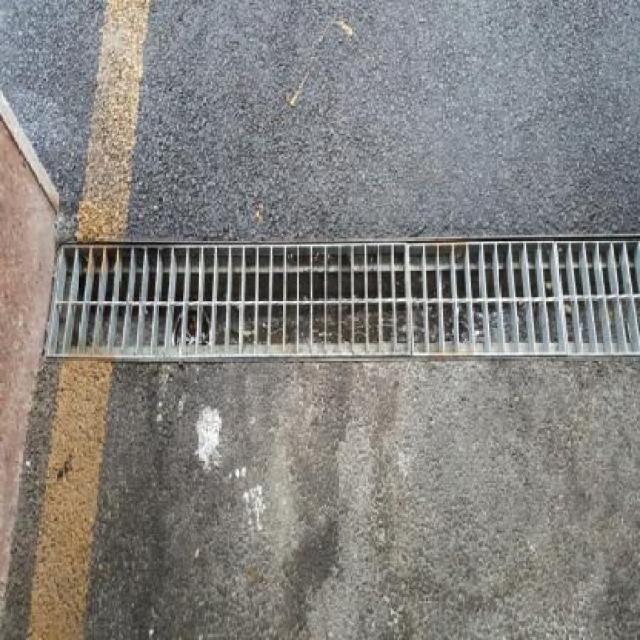Drain Hole: (55, 203, 613, 386)
